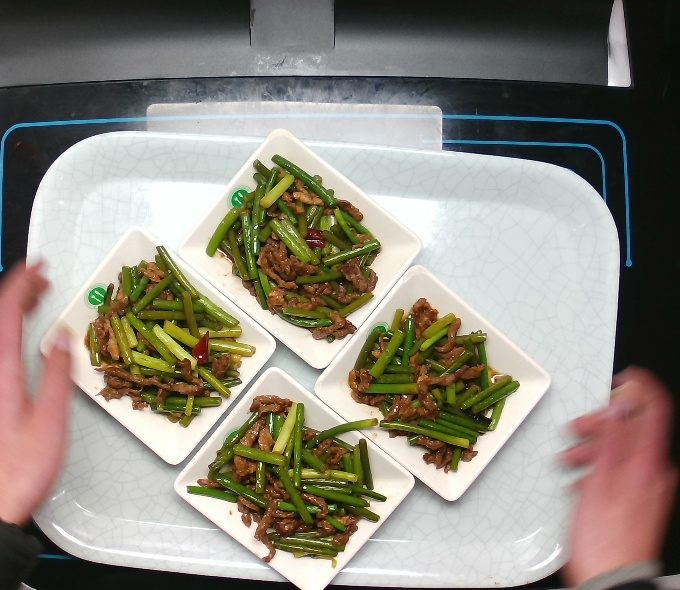wcq-SuanMiaoNiuRou: (181, 385, 390, 573), (203, 148, 385, 347), (74, 240, 263, 431), (338, 292, 524, 477)
